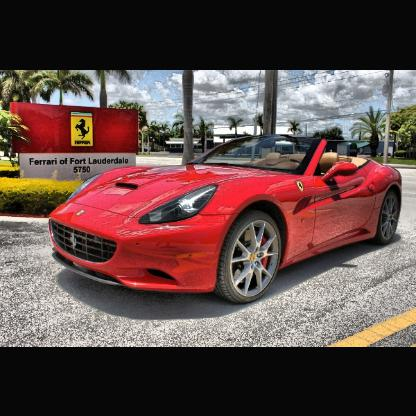Ferrari California Convertible 2012: (49, 134, 404, 305)
